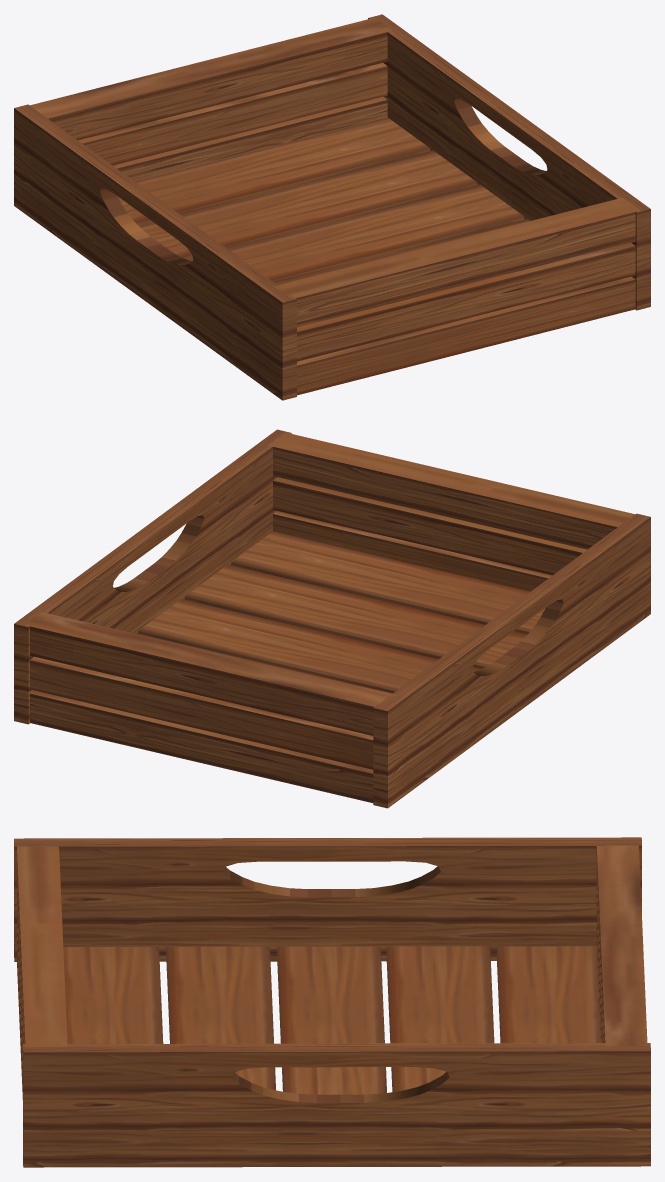
Rendered from CajaMaderaGrande.fbx.
3 renders of one model, top to bottom at view 1: azimuth 30°, elevation 25°; view 2: azimuth 150°, elevation 25°; view 3: azimuth 270°, elevation 25°, orthographic. The views are drawn at different scales.
Parts seen in each view (by area): view 1: CajaMaderaGrande; view 2: CajaMaderaGrande; view 3: CajaMaderaGrande.
Part boxes in pixels (box(x1,y1,x2,y2)): CajaMaderaGrande: box(14, 14, 650, 400); CajaMaderaGrande: box(14, 429, 650, 808); CajaMaderaGrande: box(14, 837, 650, 1167).
Size of the model in its own units: 0.8729 by 1.09 by 0.2181.
1 material, 1 textured.
